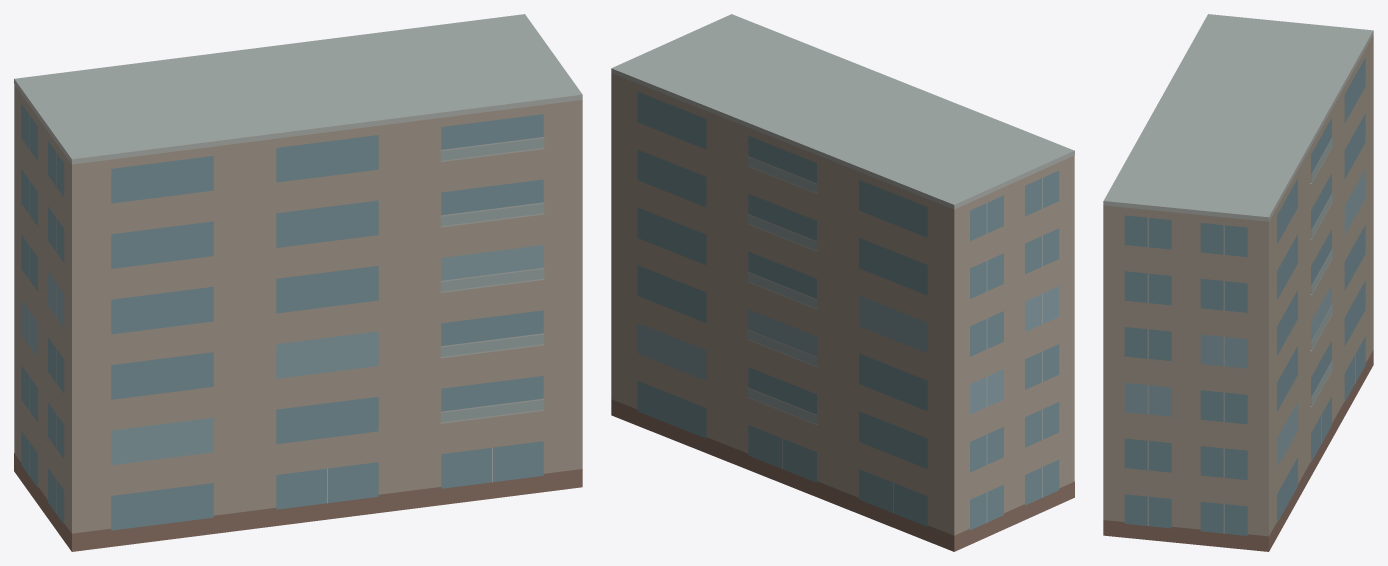
File: survey-upis-32979741.glb
3 views of the same model, side by side, from view 1: azimuth 30°, elevation 25°; view 2: azimuth 150°, elevation 25°; view 3: azimuth 270°, elevation 25° (orthographic). The views are drawn at different scales.
Parts seen in each view (by area): view 1: survey-upis-32979741.tmp; view 2: survey-upis-32979741.tmp; view 3: survey-upis-32979741.tmp.
Part boxes in pixels (left/top/right/bottom): survey-upis-32979741.tmp: left=14, top=14, right=582, bottom=551; survey-upis-32979741.tmp: left=611, top=14, right=1074, bottom=551; survey-upis-32979741.tmp: left=1103, top=14, right=1373, bottom=551.
Size of the model in its own units: 23.85 by 18.3 by 13.4.
